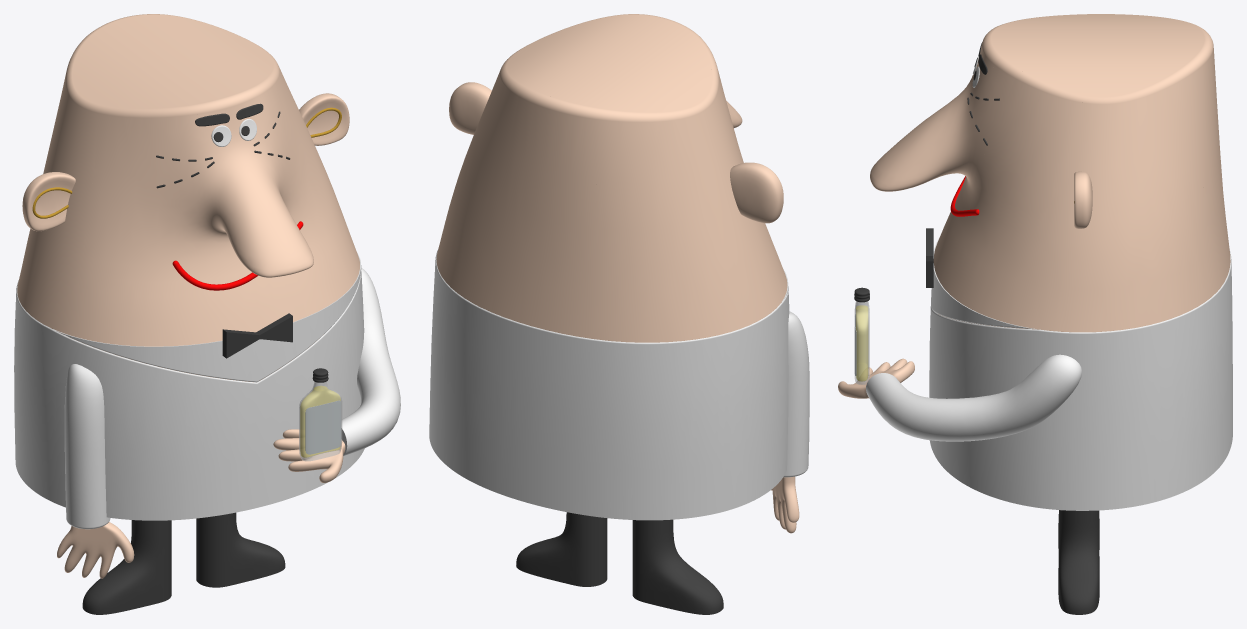
3 renders of one model, left to right at view 1: azimuth 30°, elevation 25°; view 2: azimuth 150°, elevation 25°; view 3: azimuth 270°, elevation 25°, orthographic. The views are drawn at different scales.
Visible parts, largest first — view 1: 022_trisojisan, 022_Toris; view 2: 022_trisojisan; view 3: 022_trisojisan, 022_Toris.
Part boxes in pixels (box(x1,y1,x2,y2)): 022_trisojisan: box(14, 14, 400, 614); 022_Toris: box(299, 368, 342, 461); 022_trisojisan: box(429, 14, 809, 614); 022_trisojisan: box(838, 14, 1232, 614); 022_Toris: box(854, 287, 869, 384).
Size of the model in its own units: 0.1265 by 0.1879 by 0.1275.
